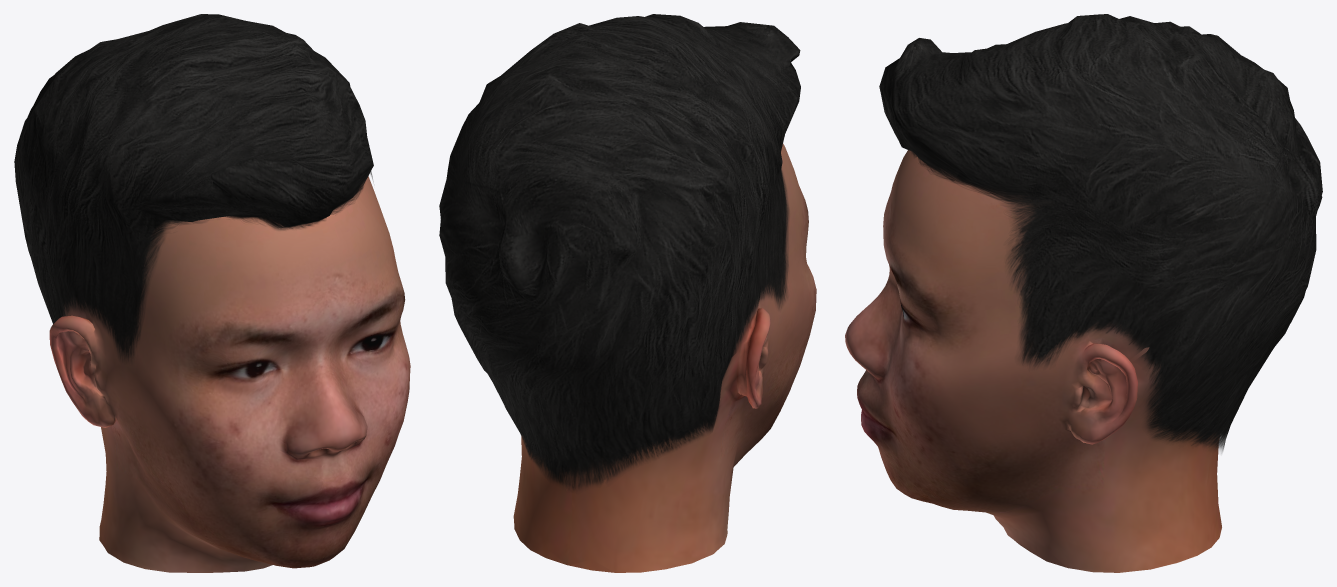
3 views of the same model, side by side, from view 1: azimuth 30°, elevation 25°; view 2: azimuth 150°, elevation 25°; view 3: azimuth 270°, elevation 25° (orthographic). The views are drawn at different scales.
Parts seen in each view (by area): view 1: avaturn_body, avaturn_hair_0; view 2: avaturn_hair_0, avaturn_body; view 3: avaturn_hair_0, avaturn_body.
Part boxes in pixels (x1,y1,x2,y2): avaturn_body: (49, 176, 410, 572); avaturn_hair_0: (14, 14, 373, 362); avaturn_hair_0: (439, 14, 800, 490); avaturn_body: (513, 143, 816, 572); avaturn_hair_0: (879, 14, 1322, 453); avaturn_body: (845, 150, 1221, 572).
Bounding box in the file's own units: 1.34 × 2.08 × 1.81.
Materials: 2 (2 with a texture image).
